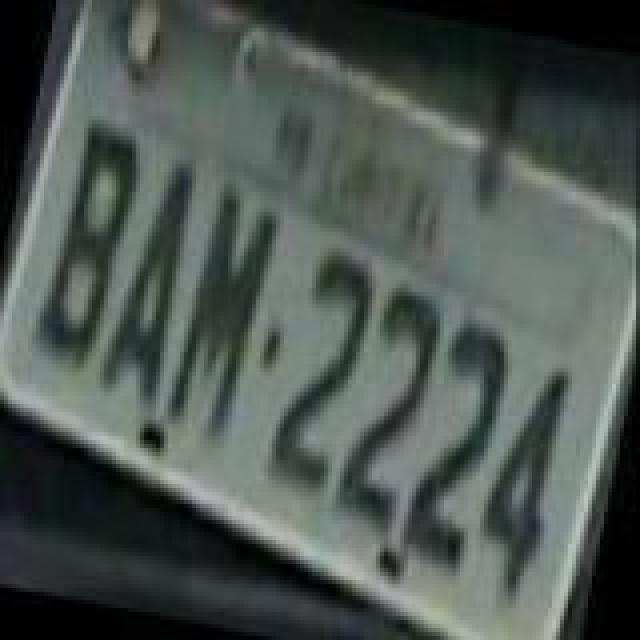2: (398, 310, 518, 578), (264, 244, 380, 500), (332, 280, 448, 536)
4: (466, 358, 578, 602)
A: (96, 150, 204, 410)
B: (26, 114, 146, 374)
M: (162, 180, 282, 444)
